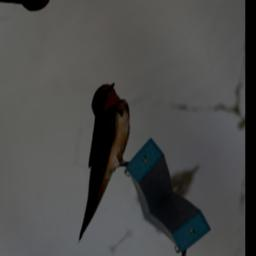Swallow: (22, 72, 169, 245)
